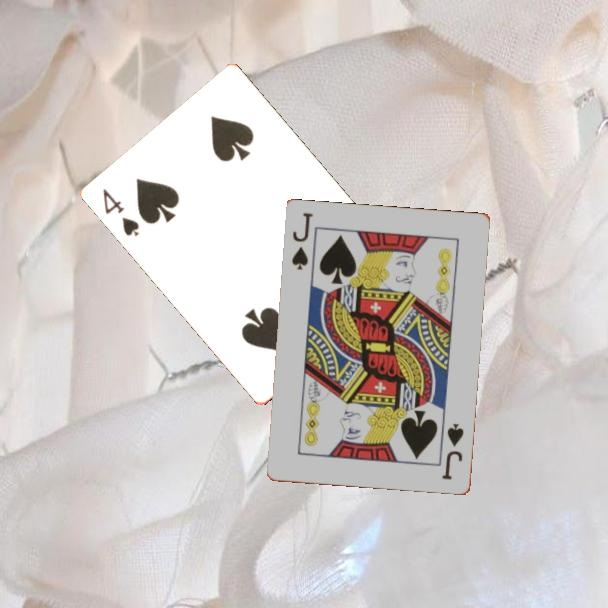s04: (99, 185, 143, 239)
s11: (439, 420, 467, 483), (289, 210, 316, 273)
